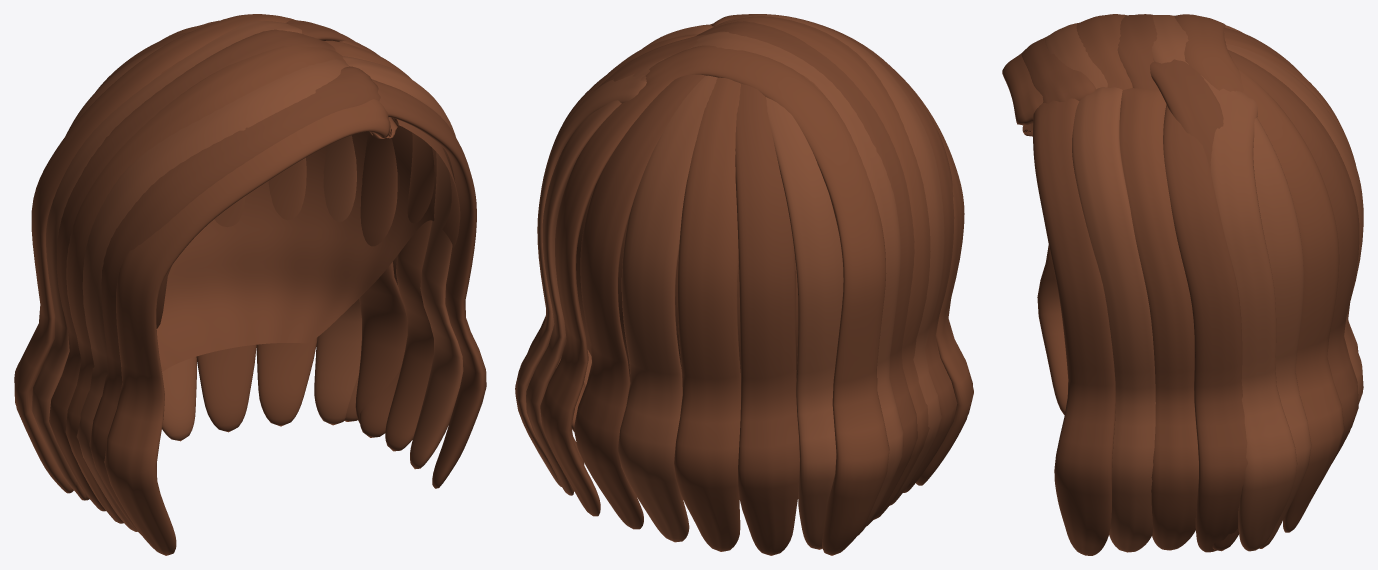
File: straight-ears-default.glb
3 renders of one model, left to right at view 1: azimuth 30°, elevation 25°; view 2: azimuth 150°, elevation 25°; view 3: azimuth 270°, elevation 25°, orthographic. The views are drawn at different scales.
Parts seen in each view (by area): view 1: 226 hair / Hair / sculpted 0.001, 226 hair / Hair / sculpted 1.002, 226 hair / Hair / sculpted 2.001, 226 hair / Hair / sculpted 1.001; view 2: 226 hair / Hair / sculpted 0.001, 226 hair / Hair / sculpted 2.001, 226 hair / Hair / sculpted 1.002, 226 hair / Hair / sculpted 1.001; view 3: 226 hair / Hair / sculpted 1.002, 226 hair / Hair / sculpted 2.001, 226 hair / Hair / sculpted 0.001.
Boxes of the visible parts, x1,y1,x2,y2 form: 226 hair / Hair / sculpted 0.001: (14, 14, 434, 555); 226 hair / Hair / sculpted 1.002: (49, 19, 486, 534); 226 hair / Hair / sculpted 2.001: (31, 20, 463, 531); 226 hair / Hair / sculpted 1.001: (156, 119, 460, 371); 226 hair / Hair / sculpted 0.001: (540, 16, 973, 555); 226 hair / Hair / sculpted 2.001: (515, 14, 944, 549); 226 hair / Hair / sculpted 1.002: (527, 14, 957, 555); 226 hair / Hair / sculpted 1.001: (576, 189, 798, 382); 226 hair / Hair / sculpted 1.002: (1021, 14, 1359, 555); 226 hair / Hair / sculpted 2.001: (1045, 15, 1363, 552); 226 hair / Hair / sculpted 0.001: (1002, 14, 1358, 550).
Bounding box in the file's own units: 0.8536 × 0.9852 × 0.7033.
